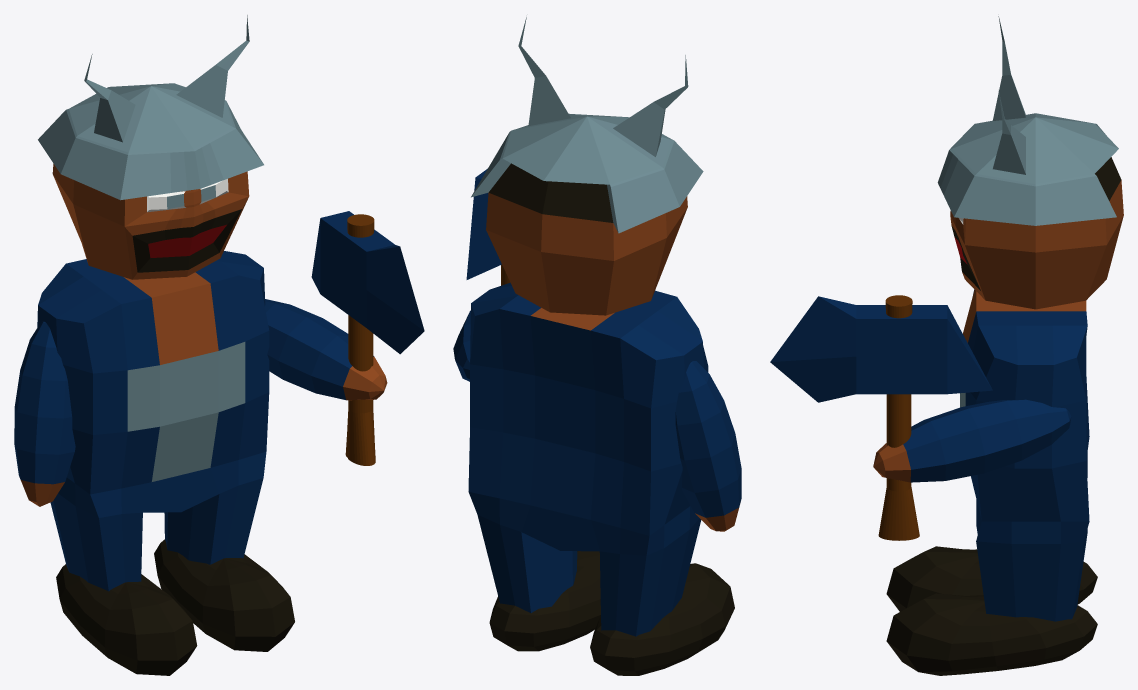
The model's file is BlueWarrior.fbx.
3 views of the same model, side by side, from view 1: azimuth 30°, elevation 25°; view 2: azimuth 150°, elevation 25°; view 3: azimuth 270°, elevation 25° (orthographic). The views are drawn at different scales.
Visible parts, largest first — view 1: Body, Head, Feet, Axe, RightHand, LeftHand, AxeHandle; view 2: Body, Head, Feet, RightHand, Axe, LeftHand; view 3: Head, Body, Feet, Axe, LeftHand, AxeHandle.
Boxes of the visible parts, left/top/right/bottom form: Body: left=37, top=251, right=269, bottom=591; Head: left=38, top=15, right=263, bottom=279; Feet: left=56, top=539, right=294, bottom=675; Axe: left=311, top=211, right=424, bottom=354; RightHand: left=14, top=321, right=75, bottom=506; LeftHand: left=265, top=299, right=387, bottom=400; AxeHandle: left=345, top=214, right=375, bottom=465; Body: left=468, top=282, right=708, bottom=636; Head: left=471, top=17, right=703, bottom=315; Feet: left=489, top=551, right=734, bottom=675; RightHand: left=675, top=361, right=741, bottom=531; Axe: left=466, top=168, right=501, bottom=279; LeftHand: left=453, top=310, right=470, bottom=381; Head: left=937, top=16, right=1123, bottom=309; Body: left=960, top=289, right=1089, bottom=621; Feet: left=886, top=546, right=1097, bottom=675; Axe: left=770, top=296, right=992, bottom=402; LeftHand: left=873, top=399, right=1071, bottom=482; AxeHandle: left=878, top=295, right=919, bottom=540.
Bounding box in the file's own units: 345 × 655 × 353.
